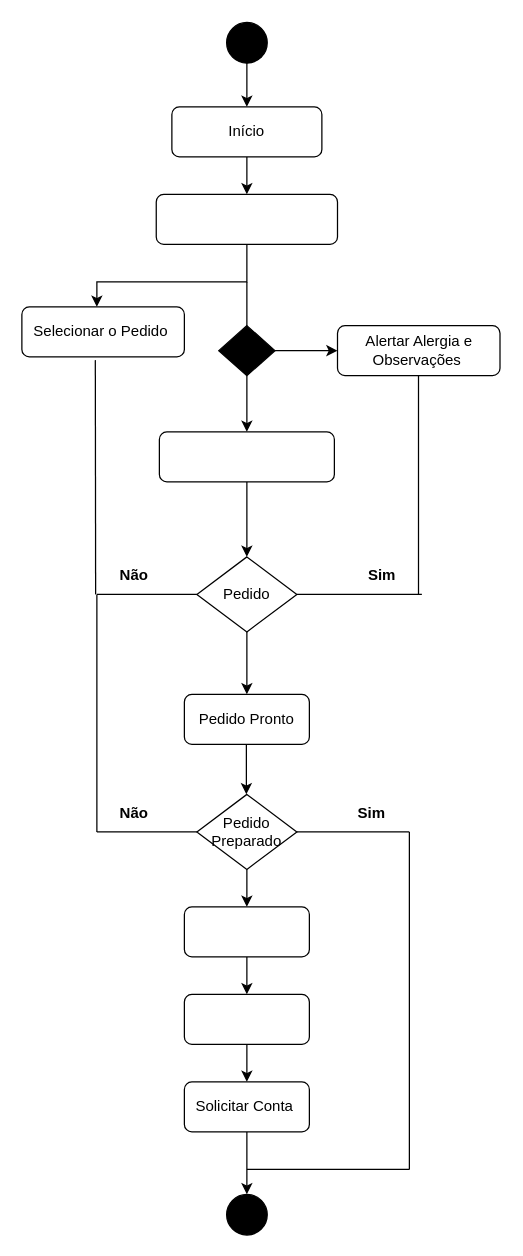
The diagram is 523 pixels wide and 1256 high, and some of its shapes have lost their labels. The shapes that lost their labels are listed below. From the top down, each one's centre as x and y in pixels, then its label:
At (x=246, y=218): "Consultar Cardápio".
At (x=246, y=456): "Realiza o Pedido".
At (x=246, y=931): "Notifica Garçom".
At (x=246, y=1018): "Entrega Pedido".
